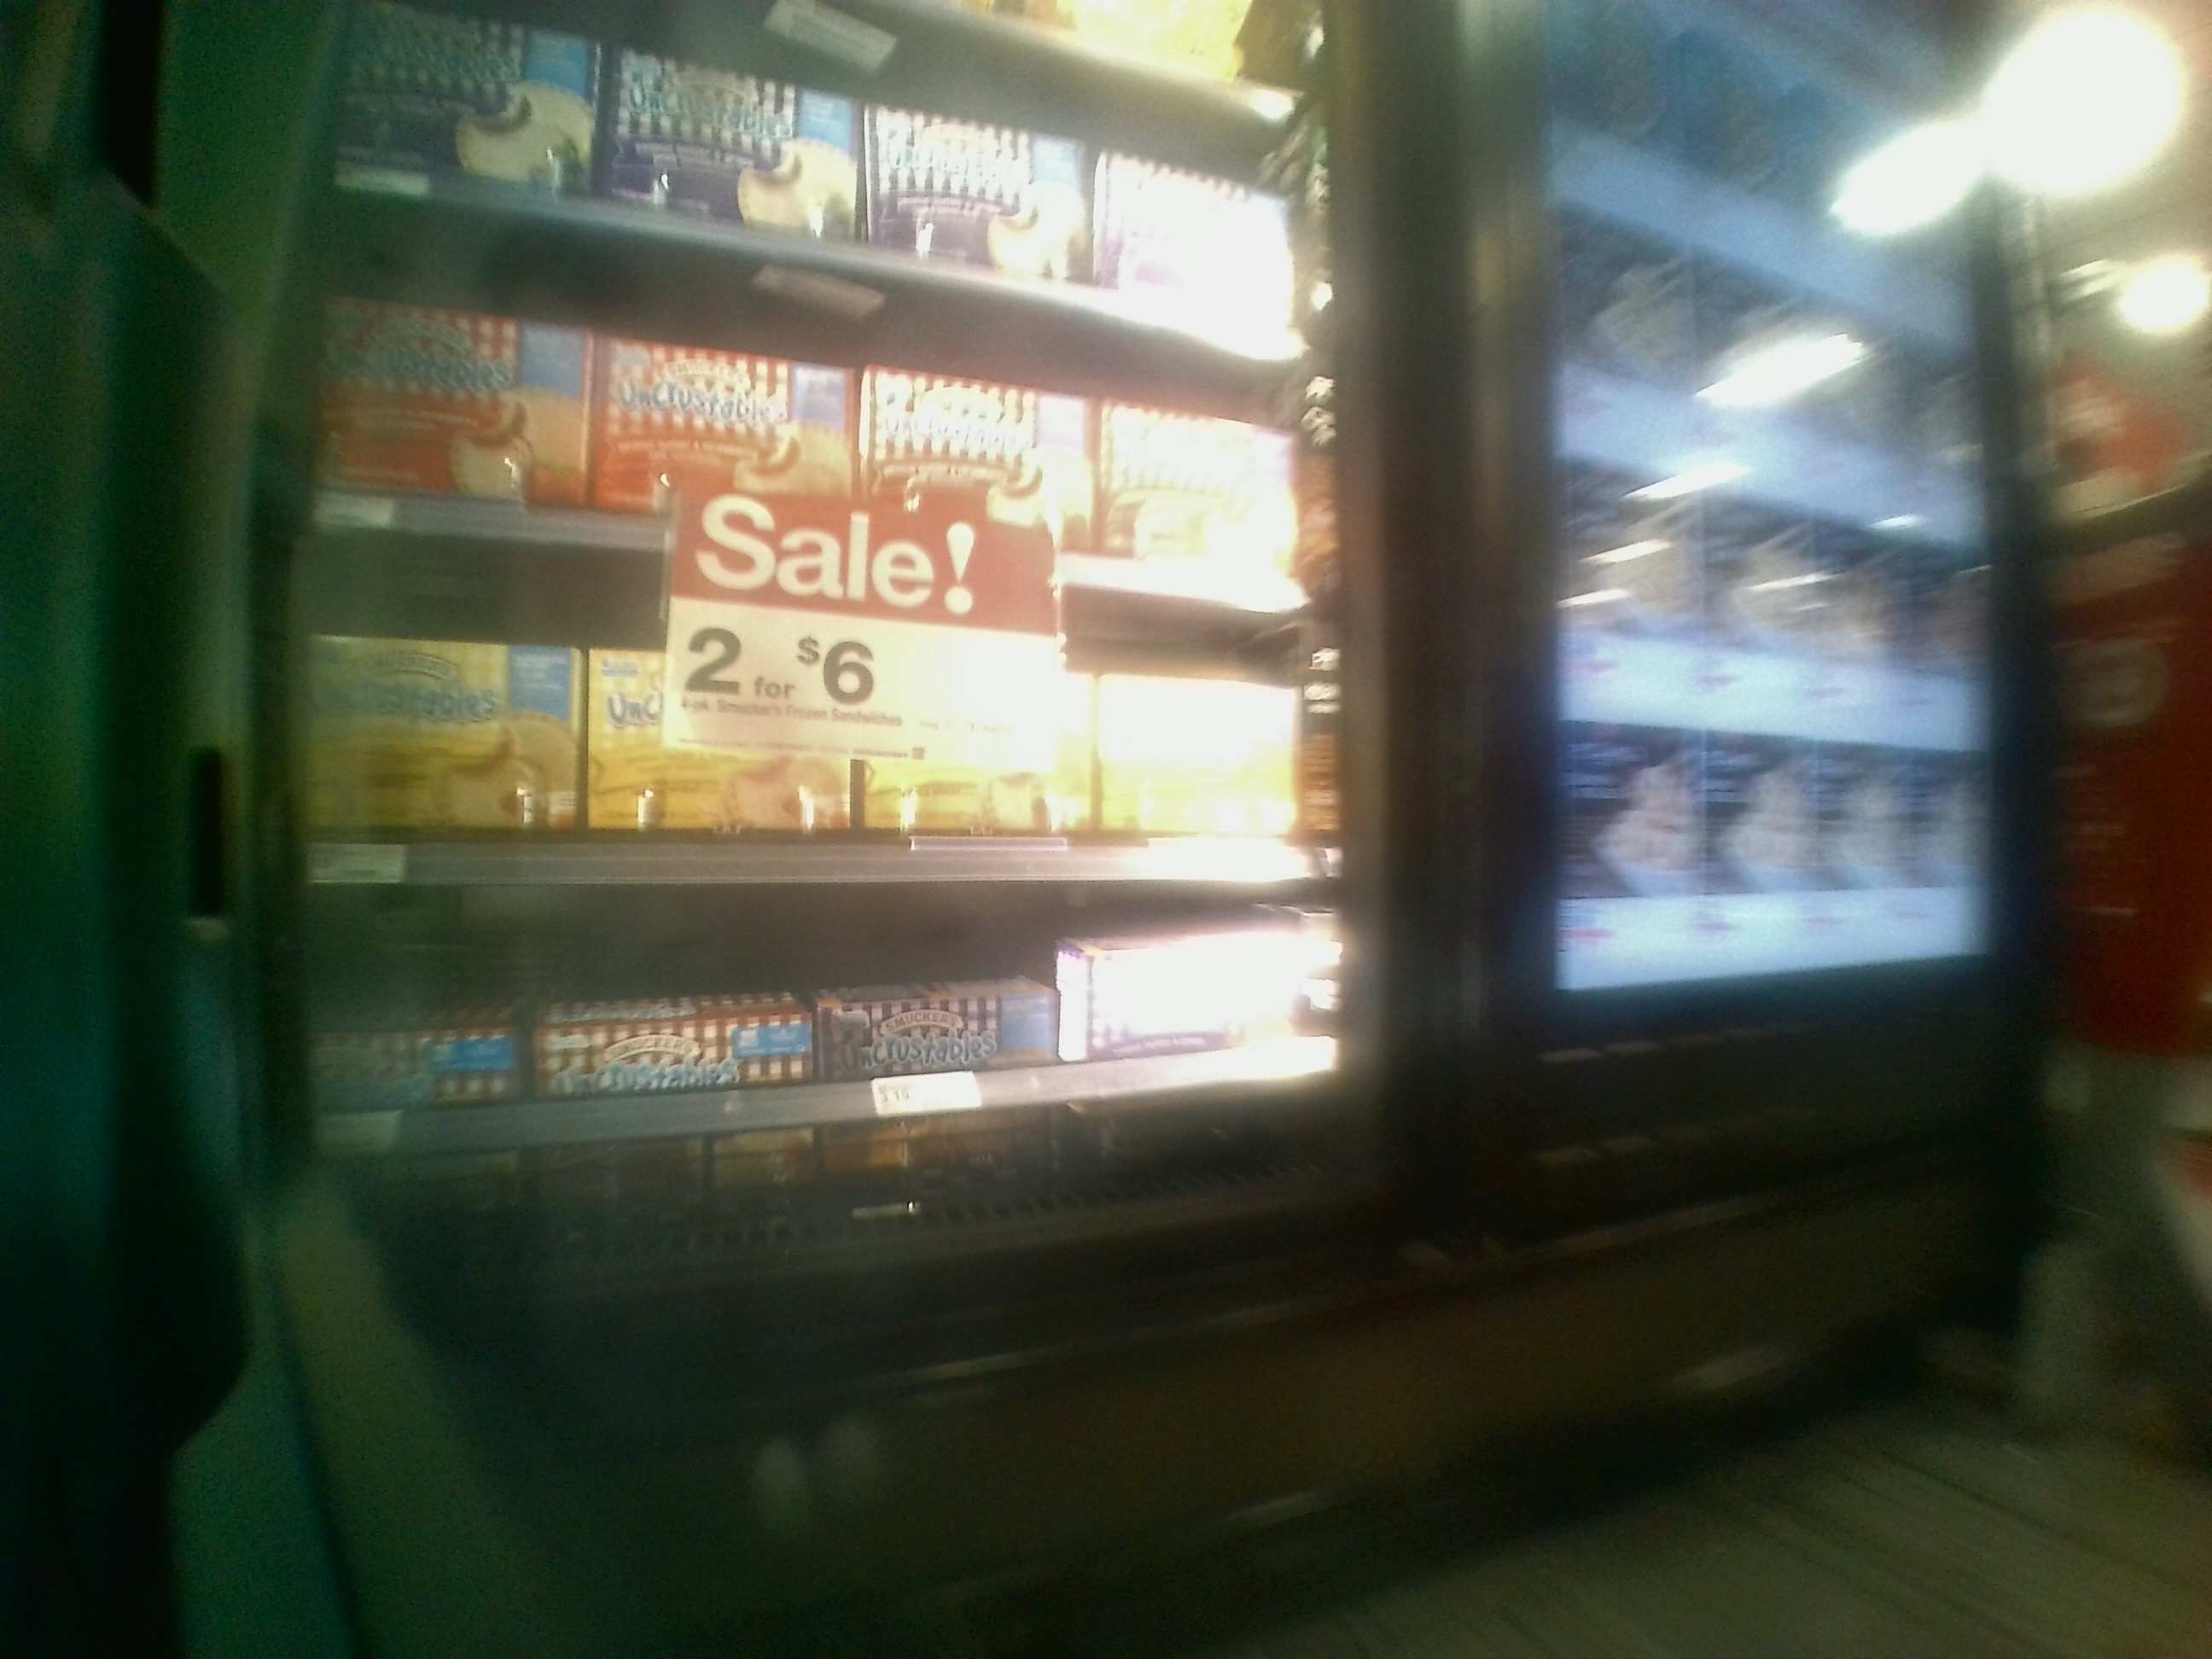shelf: (273, 878, 1395, 1300), (279, 525, 1362, 884), (291, 223, 1343, 561)
